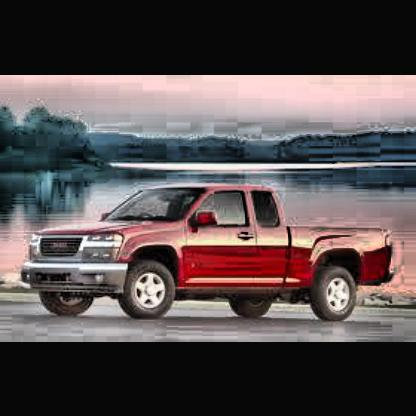GMC Canyon Extended Cab 2012: (20, 182, 394, 317)
